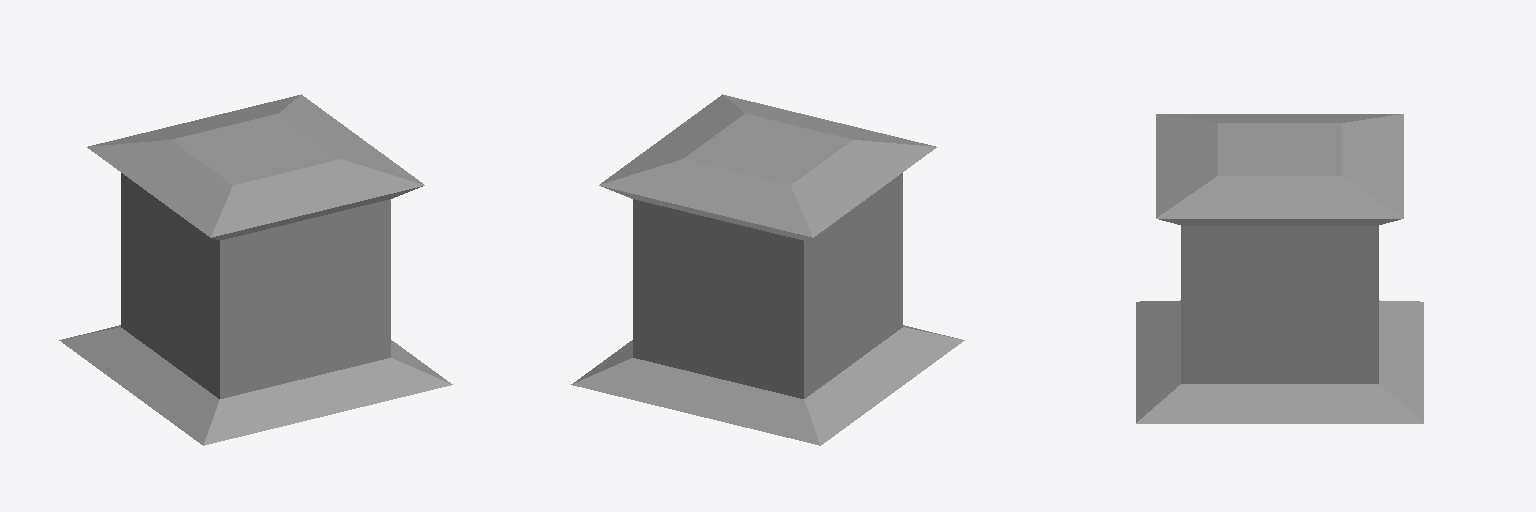
File: stabilizer_1.obj
3 views of the same model, side by side, from view 1: azimuth 30°, elevation 25°; view 2: azimuth 150°, elevation 25°; view 3: azimuth 270°, elevation 25° (orthographic).
Visible parts, largest first — view 1: Cube_Cube.002; view 2: Cube_Cube.002; view 3: Cube_Cube.002.
Boxes of the visible parts, box(x1,y1,x2,y2) form: Cube_Cube.002: box(59, 94, 452, 445); Cube_Cube.002: box(571, 94, 964, 445); Cube_Cube.002: box(1136, 114, 1423, 423).
Bounding box in the file's own units: 1 × 0.815 × 1.